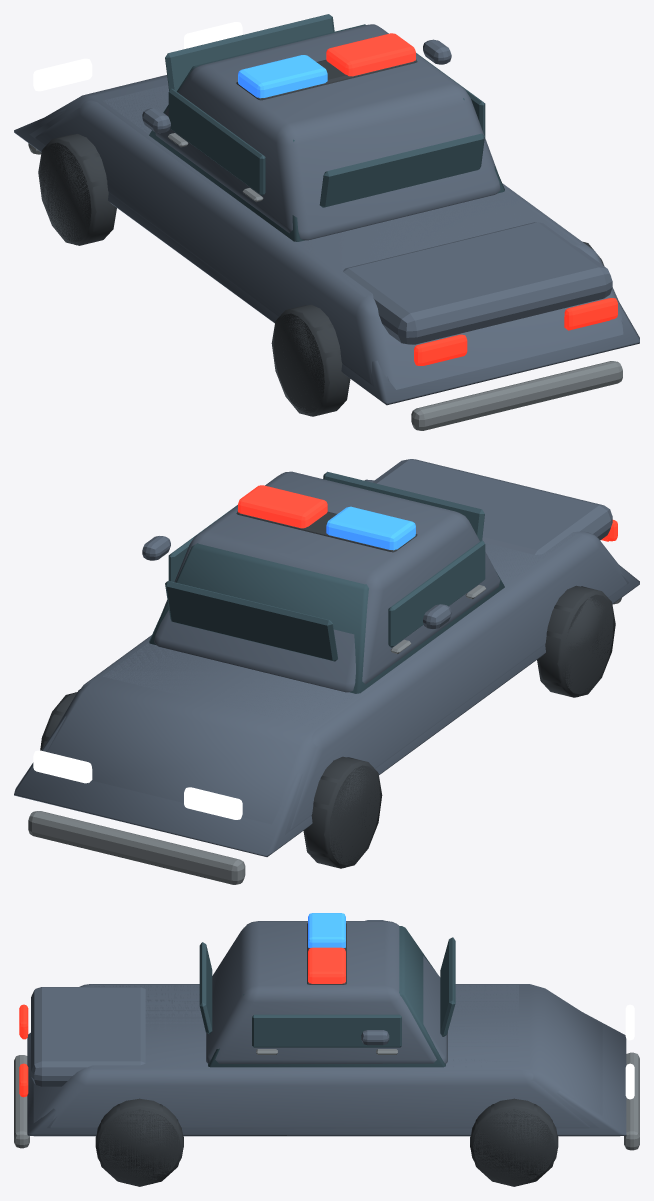
File: police_interceptor.glb
3 views of the same model, one above another, from view 1: azimuth 30°, elevation 25°; view 2: azimuth 150°, elevation 25°; view 3: azimuth 270°, elevation 25° (orthographic). The views are drawn at different scales.
Parts seen in each view (by area): view 1: LOD0_police_interceptor_LowerBody, LOD0_police_interceptor_Cabin, LOD0_police_interceptor_Trunk, LOD1_police_interceptor_Body, LOD2_police_interceptor_Body, LOD0_police_interceptor_RearGlass, LOD0_police_interceptor_Wheel_RL, LOD0_police_interceptor_Wheel_FL, LOD0_police_interceptor_RearBumper, LOD1_police_interceptor_Wheel_FL, LOD0_police_interceptor_SideGlass_L, LOD0_police_interceptor_Windshield (+9 smaller); view 2: LOD1_police_interceptor_Body, LOD0_police_interceptor_LowerBody, LOD0_police_interceptor_Cabin, LOD2_police_interceptor_Body, LOD2_police_interceptor_Upper, LOD0_police_interceptor_Trunk, LOD0_police_interceptor_Windshield, LOD0_police_interceptor_FrontBumper, LOD0_police_interceptor_Wheel_FL, LOD0_police_interceptor_Wheel_RL, LOD0_police_interceptor_SideGlass_L, LOD1_police_interceptor_Wheel_RL (+7 smaller); view 3: LOD0_police_interceptor_LowerBody, LOD0_police_interceptor_Cabin, LOD1_police_interceptor_Body, LOD0_police_interceptor_Trunk, LOD2_police_interceptor_Body, LOD0_police_interceptor_Wheel_FR, LOD0_police_interceptor_Wheel_RR, LOD1_police_interceptor_Wheel_FR, LOD1_police_interceptor_Wheel_RR, LOD0_police_interceptor_SideGlass_R, LOD2_police_interceptor_Upper, LOD0_police_interceptor_LightbarRed (+6 smaller).
Part boxes in pixels (x1=…): LOD0_police_interceptor_LowerBody: x1=35, y1=84, x2=623, y2=389; LOD0_police_interceptor_Cabin: x1=155, y1=24, x2=500, y2=240; LOD0_police_interceptor_Trunk: x1=343, y1=222, x2=612, y2=344; LOD1_police_interceptor_Body: x1=29, y1=75, x2=623, y2=386; LOD2_police_interceptor_Body: x1=14, y1=108, x2=639, y2=405; LOD0_police_interceptor_RearGlass: x1=319, y1=133, x2=484, y2=207; LOD0_police_interceptor_Wheel_RL: x1=273, y1=304, x2=348, y2=415; LOD0_police_interceptor_Wheel_FL: x1=40, y1=134, x2=114, y2=245; LOD0_police_interceptor_RearBumper: x1=411, y1=361, x2=622, y2=430; LOD1_police_interceptor_Wheel_FL: x1=38, y1=134, x2=116, y2=245; LOD0_police_interceptor_SideGlass_L: x1=168, y1=88, x2=265, y2=195; LOD0_police_interceptor_Windshield: x1=165, y1=14, x2=334, y2=91; LOD1_police_interceptor_Body: x1=47, y1=533, x2=628, y2=834; LOD0_police_interceptor_LowerBody: x1=81, y1=479, x2=626, y2=829; LOD0_police_interceptor_Cabin: x1=154, y1=471, x2=500, y2=692; LOD2_police_interceptor_Body: x1=14, y1=563, x2=639, y2=856; LOD2_police_interceptor_Upper: x1=149, y1=543, x2=504, y2=693; LOD0_police_interceptor_Trunk: x1=373, y1=459, x2=612, y2=554; LOD0_police_interceptor_Windshield: x1=165, y1=581, x2=337, y2=661; LOD0_police_interceptor_FrontBumper: x1=28, y1=811, x2=245, y2=884; LOD0_police_interceptor_Wheel_FL: x1=305, y1=756, x2=380, y2=866; LOD0_police_interceptor_Wheel_RL: x1=539, y1=585, x2=613, y2=697; LOD0_police_interceptor_SideGlass_L: x1=388, y1=540, x2=485, y2=647; LOD1_police_interceptor_Wheel_RL: x1=537, y1=586, x2=615, y2=697; LOD0_police_interceptor_LowerBody: x1=33, y1=984, x2=589, y2=1128; LOD0_police_interceptor_Cabin: x1=206, y1=921, x2=447, y2=1063; LOD1_police_interceptor_Body: x1=34, y1=984, x2=619, y2=1136; LOD0_police_interceptor_Trunk: x1=31, y1=987, x2=145, y2=1086; LOD2_police_interceptor_Body: x1=27, y1=1012, x2=626, y2=1135; LOD0_police_interceptor_Wheel_FR: x1=470, y1=1099, x2=558, y2=1183; LOD0_police_interceptor_Wheel_RR: x1=95, y1=1099, x2=183, y2=1183; LOD1_police_interceptor_Wheel_FR: x1=470, y1=1098, x2=558, y2=1186; LOD1_police_interceptor_Wheel_RR: x1=95, y1=1098, x2=183, y2=1186; LOD0_police_interceptor_SideGlass_R: x1=252, y1=1014, x2=401, y2=1047; LOD2_police_interceptor_Upper: x1=208, y1=926, x2=445, y2=1067; LOD0_police_interceptor_LightbarRed: x1=308, y1=947, x2=345, y2=983.
Size of what is drawn, in the model's own units: 2.25 by 1.69 by 5.1.
